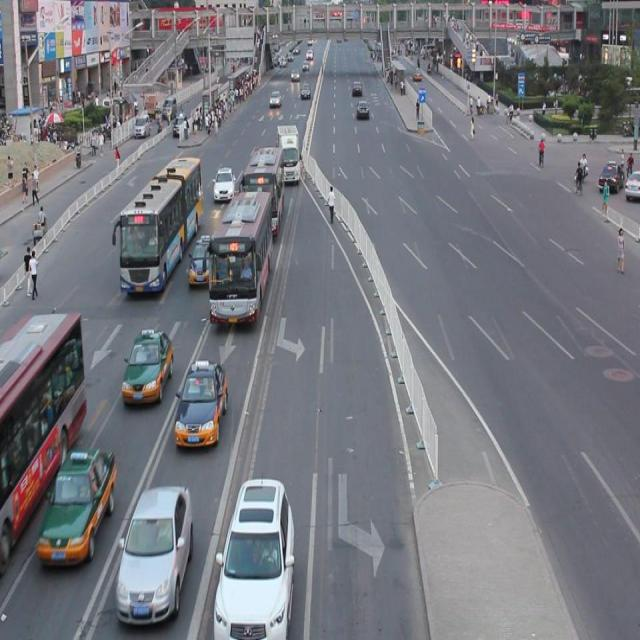bus: (276, 123, 301, 184)
car: (215, 475, 294, 640), (118, 484, 193, 624), (39, 447, 116, 563), (175, 361, 227, 445), (121, 328, 173, 402), (189, 234, 216, 282), (213, 167, 236, 200), (278, 131, 294, 157)
van: (0, 310, 86, 554), (113, 156, 202, 292), (208, 188, 271, 324), (240, 146, 283, 236)
